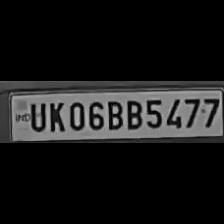0: (65, 99, 85, 131)
4: (164, 96, 182, 128)
5: (144, 96, 162, 130)
6: (86, 97, 104, 130)
7: (200, 95, 218, 129), (182, 96, 200, 128)
B: (104, 97, 122, 131), (124, 96, 142, 130)
K: (46, 99, 64, 133)
U: (27, 100, 46, 132)
